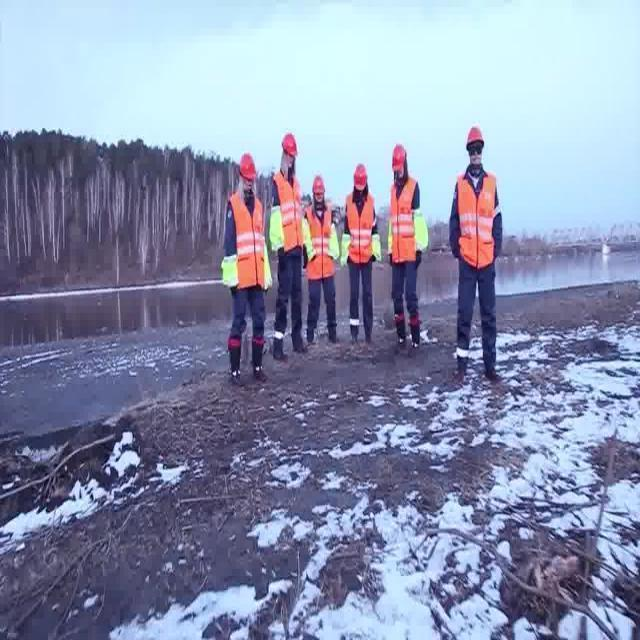goggles: (467, 143, 483, 156)
helmet: (350, 161, 368, 191), (391, 143, 409, 172), (281, 131, 297, 162), (238, 149, 255, 178), (466, 123, 483, 150), (310, 175, 324, 195)
safety_vest: (457, 169, 497, 270), (229, 191, 267, 290), (270, 173, 305, 255), (346, 192, 377, 266), (391, 182, 416, 265), (306, 203, 333, 277)
